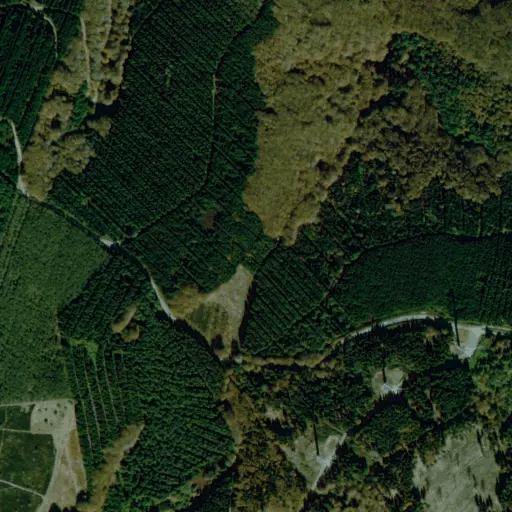wt: (441, 274, 486, 368), (368, 326, 410, 401), (306, 409, 343, 474)
